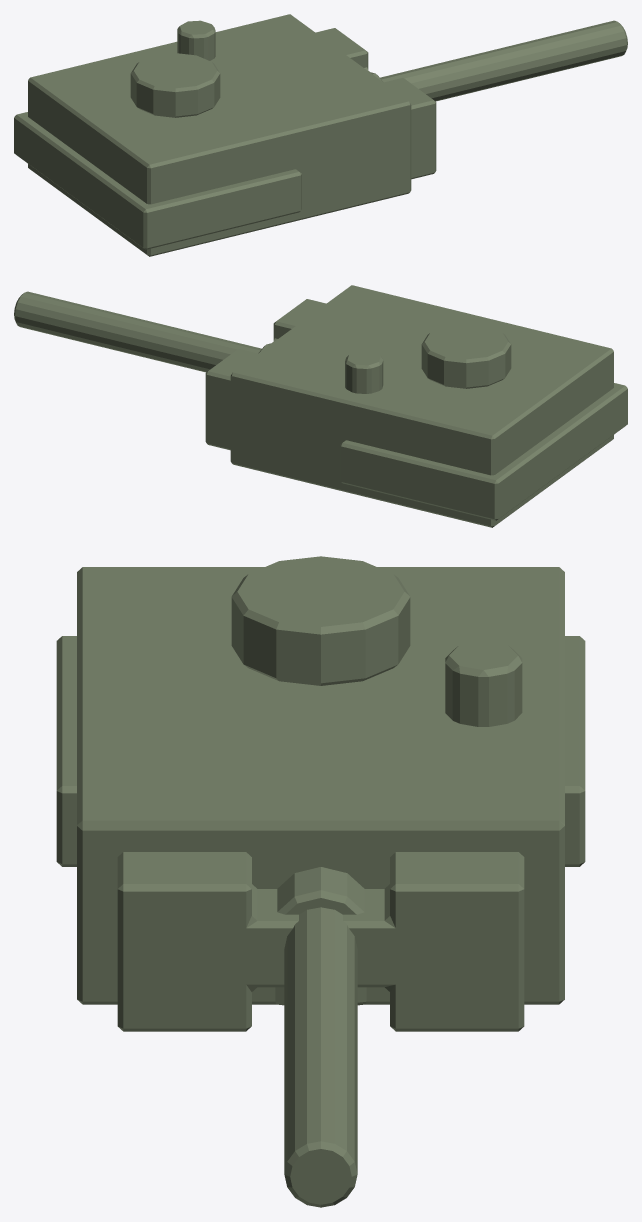
File: tank_turret.glb
The picture shows the model from 3 angles, top to bottom: view 1: azimuth 30°, elevation 25°; view 2: azimuth 150°, elevation 25°; view 3: azimuth 270°, elevation 25°; orthographic projection. The views are drawn at different scales.
Parts seen in each view (by area): view 1: tank_turret; view 2: tank_turret; view 3: tank_turret.
Boxes of the visible parts, x1,y1,x2,y2 form: tank_turret: (14,14,627,256); tank_turret: (14,285,627,527); tank_turret: (56,556,585,1207).
Bounding box in the file's own units: 3.08 × 0.66 × 1.3.
